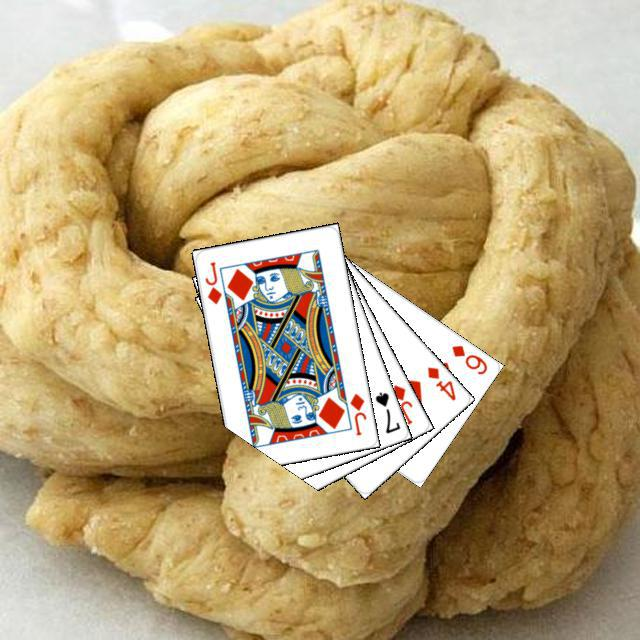4d: (422, 362, 457, 402)
6d: (447, 340, 489, 376)
7s: (370, 387, 402, 435)
Jd: (387, 379, 414, 427), (200, 257, 224, 306), (345, 388, 368, 437)
